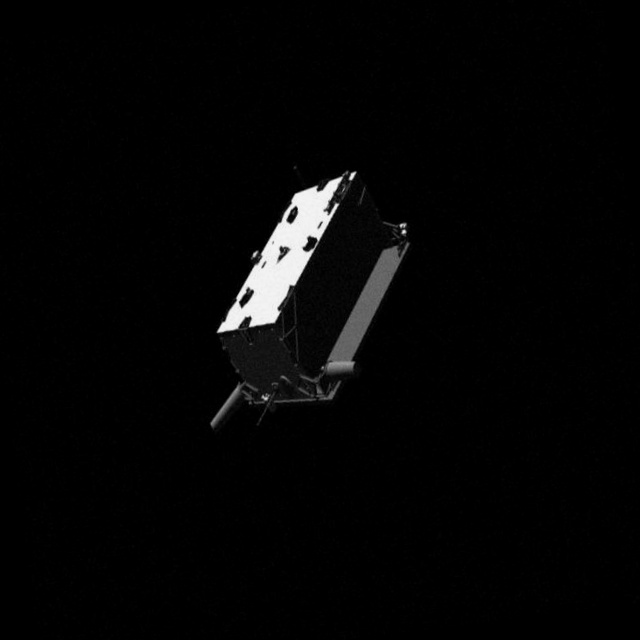satellite: (172, 152, 440, 441)
